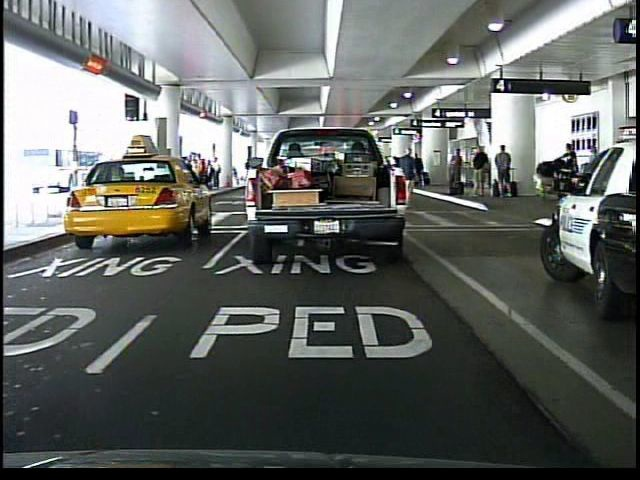person: (343, 140, 376, 218), (396, 144, 422, 213), (559, 138, 581, 200)
